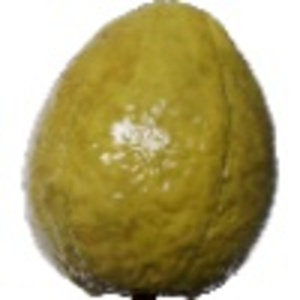goiaba: (7, 4, 284, 297)
